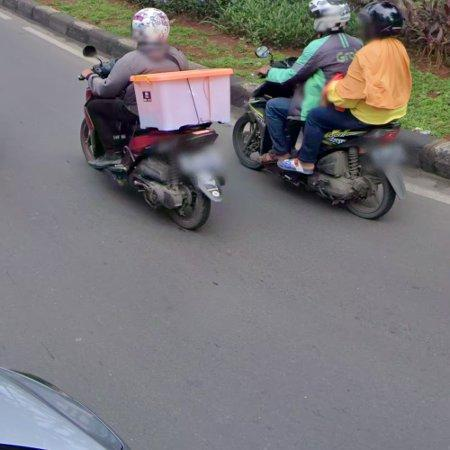motorcycles: (99, 120, 225, 230), (268, 122, 406, 220), (233, 81, 284, 170), (80, 88, 105, 161), (289, 115, 304, 149)
